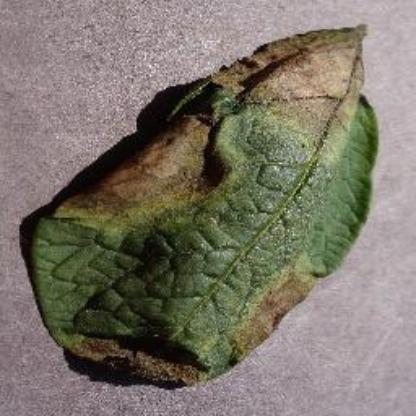Late-Blight: (14, 13, 394, 398)
